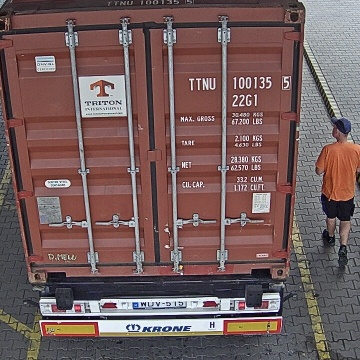serial_id: (189, 76, 291, 89)
